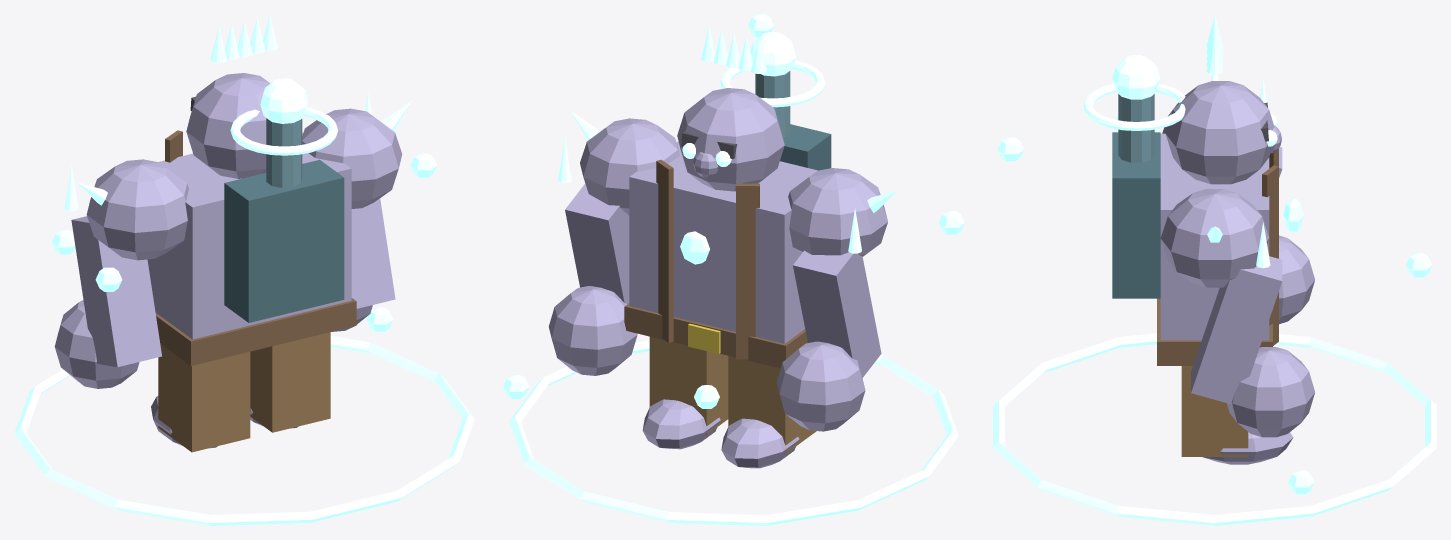
Rendered from evolved_electro_giant.glb.
The picture shows the model from 3 angles, left to right: view 1: azimuth 30°, elevation 25°; view 2: azimuth 150°, elevation 25°; view 3: azimuth 270°, elevation 25°; orthographic projection. The views are drawn at different scales.
Parts seen in each view (by area): view 1: evolved_electro_giant; view 2: evolved_electro_giant; view 3: evolved_electro_giant.
Boxes of the visible parts, x1=… form: evolved_electro_giant: x1=14, y1=14, x2=474, y2=525; evolved_electro_giant: x1=503, y1=14, x2=964, y2=525; evolved_electro_giant: x1=993, y1=15, x2=1436, y2=525.
Size of the model in its own units: 4.15 by 4.17 by 4.04.
